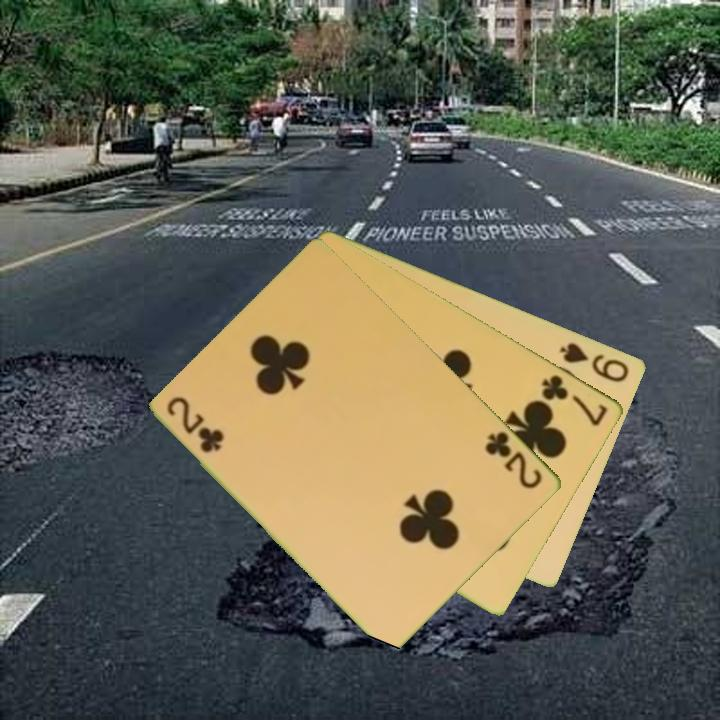2c: (482, 427, 546, 492), (164, 393, 226, 456)
7c: (538, 371, 612, 429)
9s: (556, 338, 633, 385)
